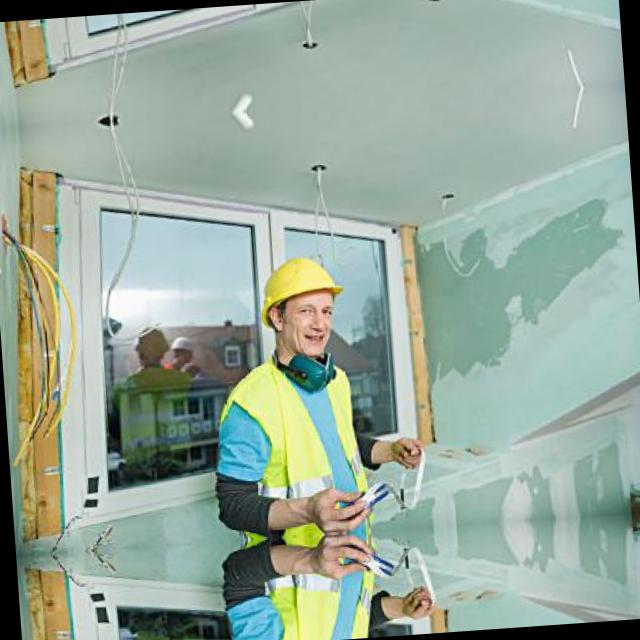helmet: (252, 238, 350, 376)
